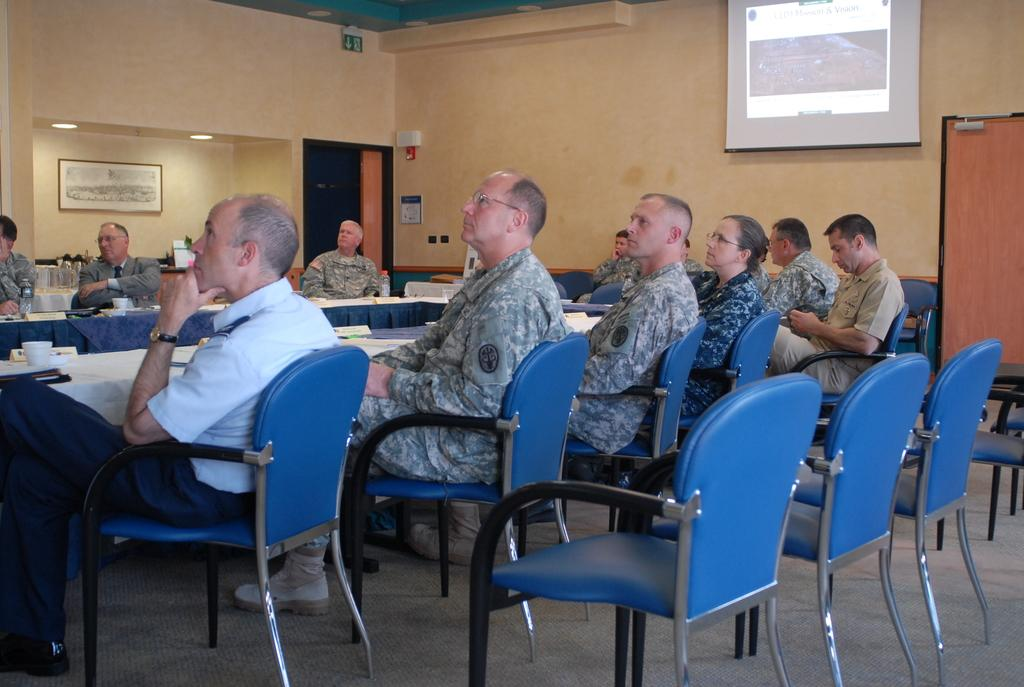Chair: (77, 346, 376, 686), (629, 351, 931, 686), (335, 331, 589, 670), (746, 342, 1002, 657), (518, 320, 708, 561), (602, 311, 784, 530), (788, 296, 909, 431), (938, 425, 1023, 548), (990, 407, 1023, 542), (899, 280, 943, 354), (556, 265, 594, 301), (588, 281, 623, 306), (556, 280, 570, 303)
